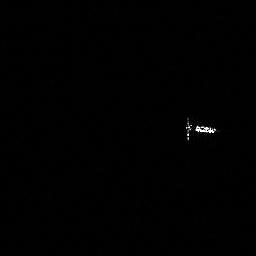ship: (183, 116, 218, 143)
